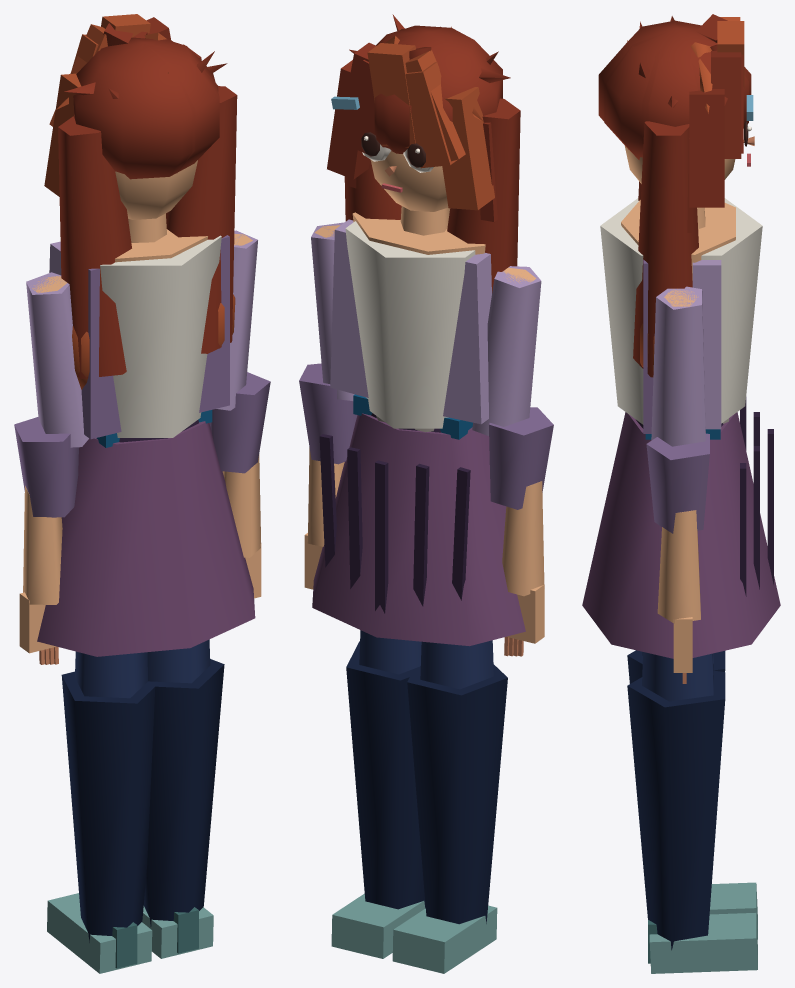
Rendered from ren-retro-ds.glb.
3 renders of one model, left to right at view 1: azimuth 30°, elevation 25°; view 2: azimuth 150°, elevation 25°; view 3: azimuth 270°, elevation 25°, orthographic.
Parts seen in each view (by area): view 1: Skirt_PleatedBody, Denim_Calf_L, Torso_Camisole, Denim_Calf_R, Hair3_Cap, Hair3_Long_-1, Hair3_Long_1, UpperArm_L, Cardigan_Back, Cardigan_Cuff_L, Cardigan_Cuff_R, Shoe_L (+17 smaller); view 2: Skirt_PleatedBody, Denim_Calf_L, Torso_Camisole, Denim_Calf_R, UpperArm_L, Cardigan_Left, Hair3_Long_-1, Hair3_Cap, Cardigan_Cuff_L, Shoe_L, Cardigan_Right, Hair_Chunk_1 (+27 smaller); view 3: Skirt_PleatedBody, Denim_Calf_R, Torso_Camisole, Hair3_Long_1, Hair3_Cap, UpperArm_R, Shoe_R, Cardigan_Cuff_R, Hair_Chunk_5, Forearm_R, Cardigan_Right, Denim_Thigh_R (+13 smaller).
Boxes of the visible parts, x1,y1,x2,y2 form: Skirt_PleatedBody: (37,421,255,656); Denim_Calf_L: (61,671,159,942); Torso_Camisole: (100,235,221,437); Denim_Calf_R: (143,659,224,926); Hair3_Cap: (73,38,219,179); Hair3_Long_-1: (58,116,131,378); Hair3_Long_1: (166,86,237,353); UpperArm_L: (26,272,88,447); Cardigan_Back: (81,235,229,439); Cardigan_Cuff_L: (14,417,78,517); Cardigan_Cuff_R: (209,372,270,473); Shoe_L: (47,893,152,973); Skirt_PleatedBody: (312,413,525,646); Denim_Calf_L: (407,664,507,924); Torso_Camisole: (345,221,475,428); Denim_Calf_R: (346,641,425,909); UpperArm_L: (472,266,541,435); Cardigan_Left: (443,253,491,424); Hair3_Long_-1: (447,98,520,292); Hair3_Cap: (376,25,502,153); Cardigan_Cuff_L: (489,407,553,509); Shoe_L: (392,905,497,973); Cardigan_Right: (330,219,368,397); Hair_Chunk_1: (442,87,494,210); Skirt_PleatedBody: (582,412,780,658); Denim_Calf_R: (627,670,725,950); Torso_Camisole: (600,198,762,424); Hair3_Long_1: (633,121,698,377); Hair3_Cap: (598,20,751,159); UpperArm_R: (651,286,705,446); Shoe_R: (649,913,757,973); Cardigan_Cuff_R: (646,433,709,533); Hair_Chunk_5: (689,89,724,207); Forearm_R: (657,510,700,623); Cardigan_Right: (692,260,721,429); Denim_Thigh_R: (642,652,713,701).
Size of the model in its own units: 1.82 by 6.38 by 1.25.
